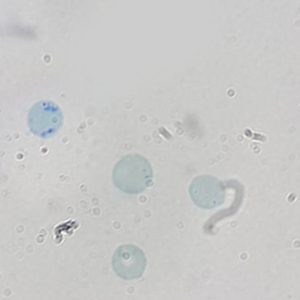aggregate reticulocyte: (26, 99, 64, 140)
erythrocyte: (110, 243, 148, 282), (188, 174, 228, 211)
punctate reticulocyte: (111, 153, 155, 196)
